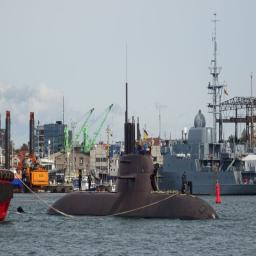submarine: (47, 39, 225, 216)
